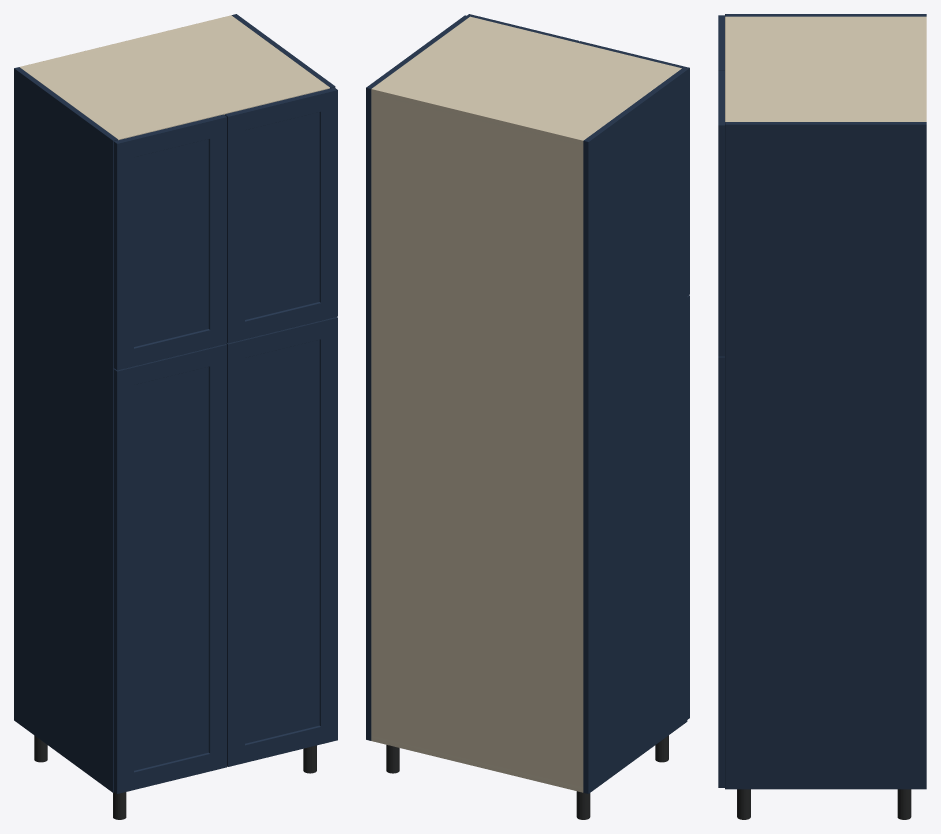
The model's file is oppein-ply-bss-pc3084.glb.
The picture shows the model from 3 angles, left to right: view 1: azimuth 30°, elevation 25°; view 2: azimuth 150°, elevation 25°; view 3: azimuth 270°, elevation 25°; orthographic projection.
Parts seen in each view (by area): view 1: Cabinet side, Door, Door.001, Door.002, Door.003, Cabinet top; view 2: Cabinet back, Cabinet side, Cabinet top, Cabinet side.001, Door, Cabinet bottom, Door.002; view 3: Cabinet side.001, Cabinet top, Door.001, Door.003, Cabinet side, Cabinet back, Adjustable foot.002, Adjustable foot.003.
Part boxes in pixels (bbox=[...]): Cabinet side: bbox=[14, 67, 117, 792]; Door: bbox=[113, 344, 226, 793]; Door.001: bbox=[226, 317, 337, 766]; Door.002: bbox=[113, 114, 226, 370]; Door.003: bbox=[224, 87, 337, 343]; Cabinet top: bbox=[21, 16, 329, 140]; Cabinet back: bbox=[371, 87, 584, 792]; Cabinet side: bbox=[583, 68, 687, 793]; Cabinet top: bbox=[371, 16, 681, 145]; Cabinet side.001: bbox=[366, 15, 469, 740]; Door: bbox=[687, 295, 689, 719]; Cabinet bottom: bbox=[371, 736, 583, 792]; Door.002: bbox=[578, 41, 689, 295]; Cabinet side.001: bbox=[725, 122, 926, 789]; Cabinet top: bbox=[725, 16, 922, 121]; Door.001: bbox=[718, 356, 724, 787]; Door.003: bbox=[718, 70, 724, 356]; Cabinet side: bbox=[725, 14, 926, 16]; Cabinet back: bbox=[922, 16, 926, 121]; Adjustable foot.002: bbox=[897, 789, 911, 819]; Adjustable foot.003: bbox=[737, 789, 750, 819].
Size of the model in its own units: 0.762 by 2.25 by 0.6064.
